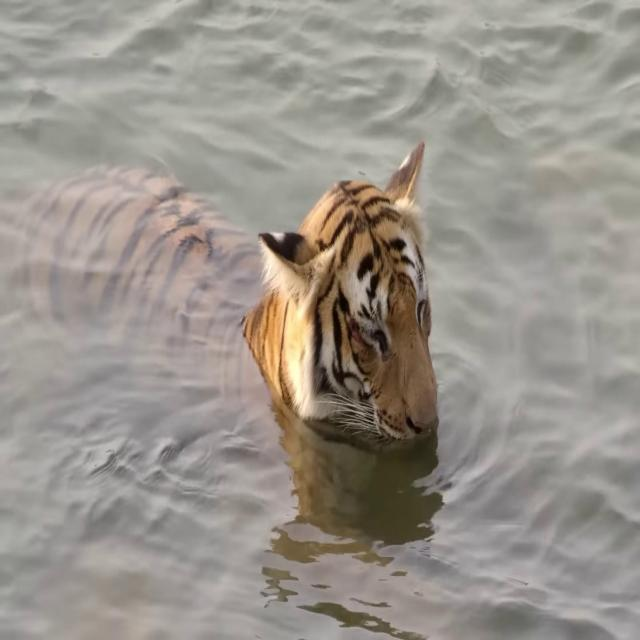tiger: (2, 139, 439, 446)
